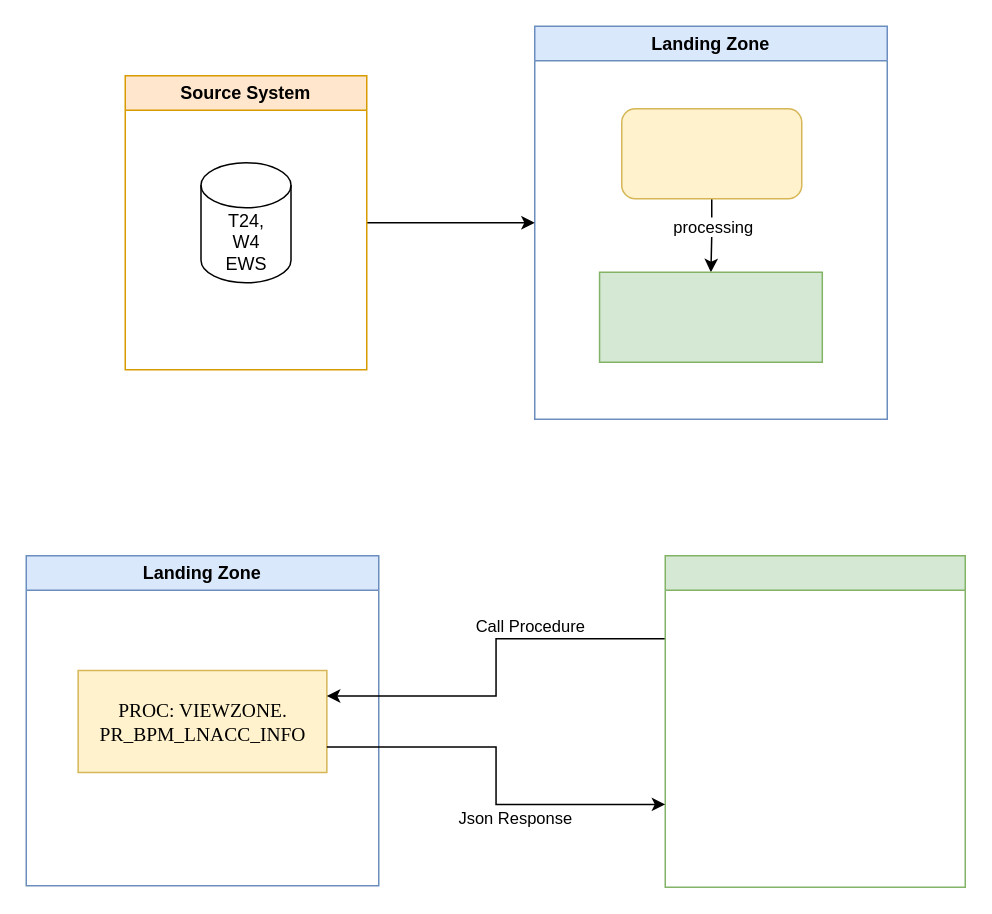
Image size: 992x914. Some labels were removed from this diagram. Each missing label, with the centre of its shape:
RB Approval System: [814,720]
Result: STP_MAIN: [710,316]
Run Procedure: [711,153]
